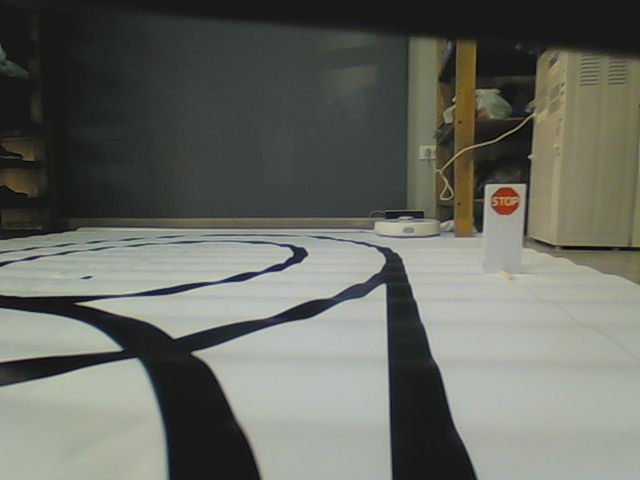Stop: (488, 186, 520, 218)
